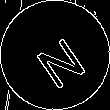N_NW: (24, 23, 86, 87)
